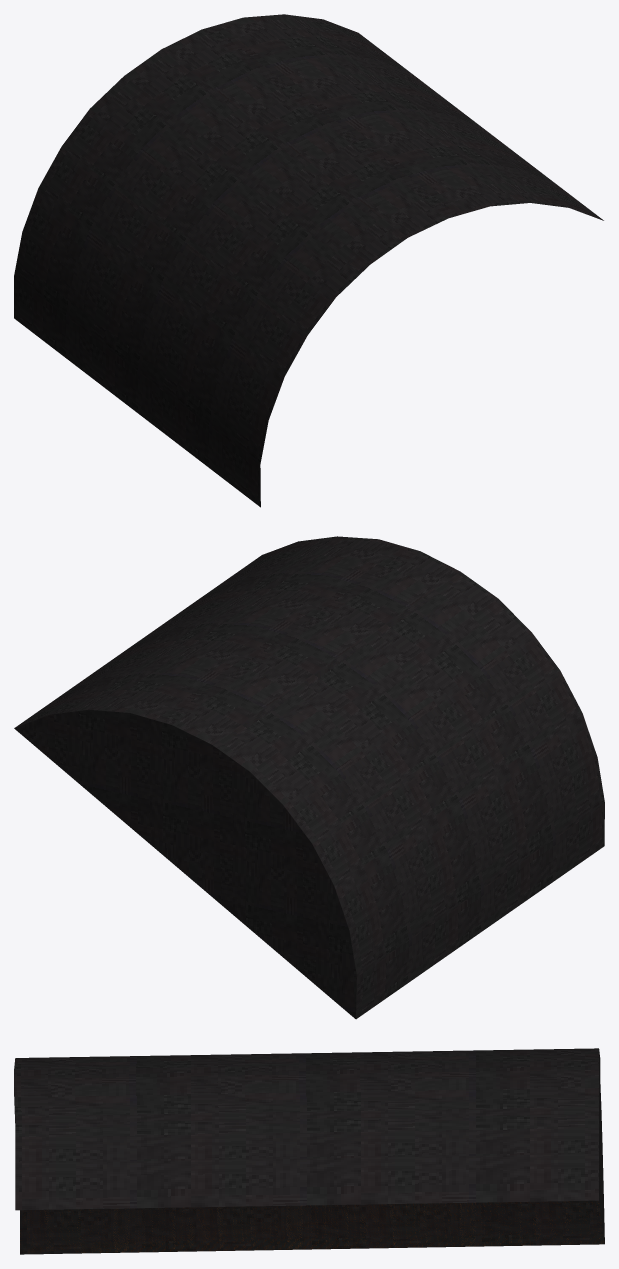
The model's file is original-212.obj.
The picture shows the model from 3 angles, top to bottom: view 1: azimuth 30°, elevation 25°; view 2: azimuth 150°, elevation 25°; view 3: azimuth 270°, elevation 25°; orthographic projection. The views are drawn at different scales.
Visible parts, largest first — view 1: Group9/mesh100/mesh100-geometry/material_1/component_20#mesh100-; view 2: Group9/mesh100/mesh100-geometry/material_1/component_20#mesh100-; view 3: Group9/mesh100/mesh100-geometry/material_1/component_20#mesh100-.
Part boxes in pixels (<box>): Group9/mesh100/mesh100-geometry/material_1/component_20#mesh100-: <box>14,14,603,507</box>; Group9/mesh100/mesh100-geometry/material_1/component_20#mesh100-: <box>14,536,604,1019</box>; Group9/mesh100/mesh100-geometry/material_1/component_20#mesh100-: <box>14,1048,604,1254</box>.
Size of the model in its own units: 0.0262 by 0.0187 by 0.0331.
